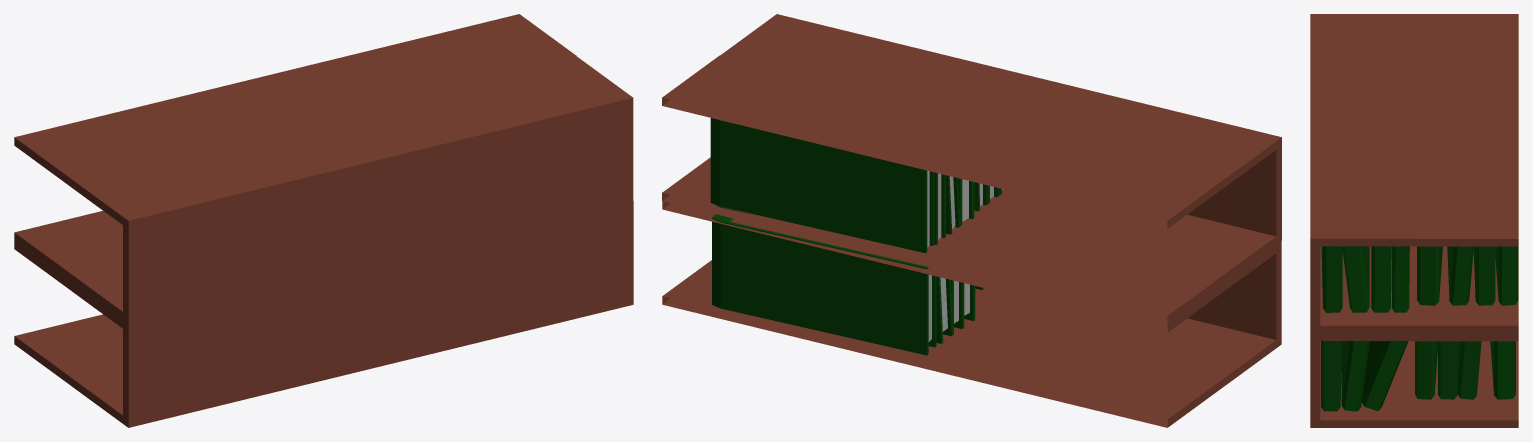
File: LibShelf_Left 1.fbx
The picture shows the model from 3 angles, left to right: view 1: azimuth 30°, elevation 25°; view 2: azimuth 150°, elevation 25°; view 3: azimuth 270°, elevation 25°; orthographic projection. The views are drawn at different scales.
Parts seen in each view (by area): view 1: LibraryBookshelf_LeftNEW; view 2: LibraryBookshelf_LeftNEW; view 3: LibraryBookshelf_LeftNEW.
Part boxes in pixels (<box>): LibraryBookshelf_LeftNEW: <box>14,14,633,427</box>; LibraryBookshelf_LeftNEW: <box>662,14,1281,427</box>; LibraryBookshelf_LeftNEW: <box>1310,14,1518,427</box>.
Size of the model in its own units: 511 by 200 by 200.
